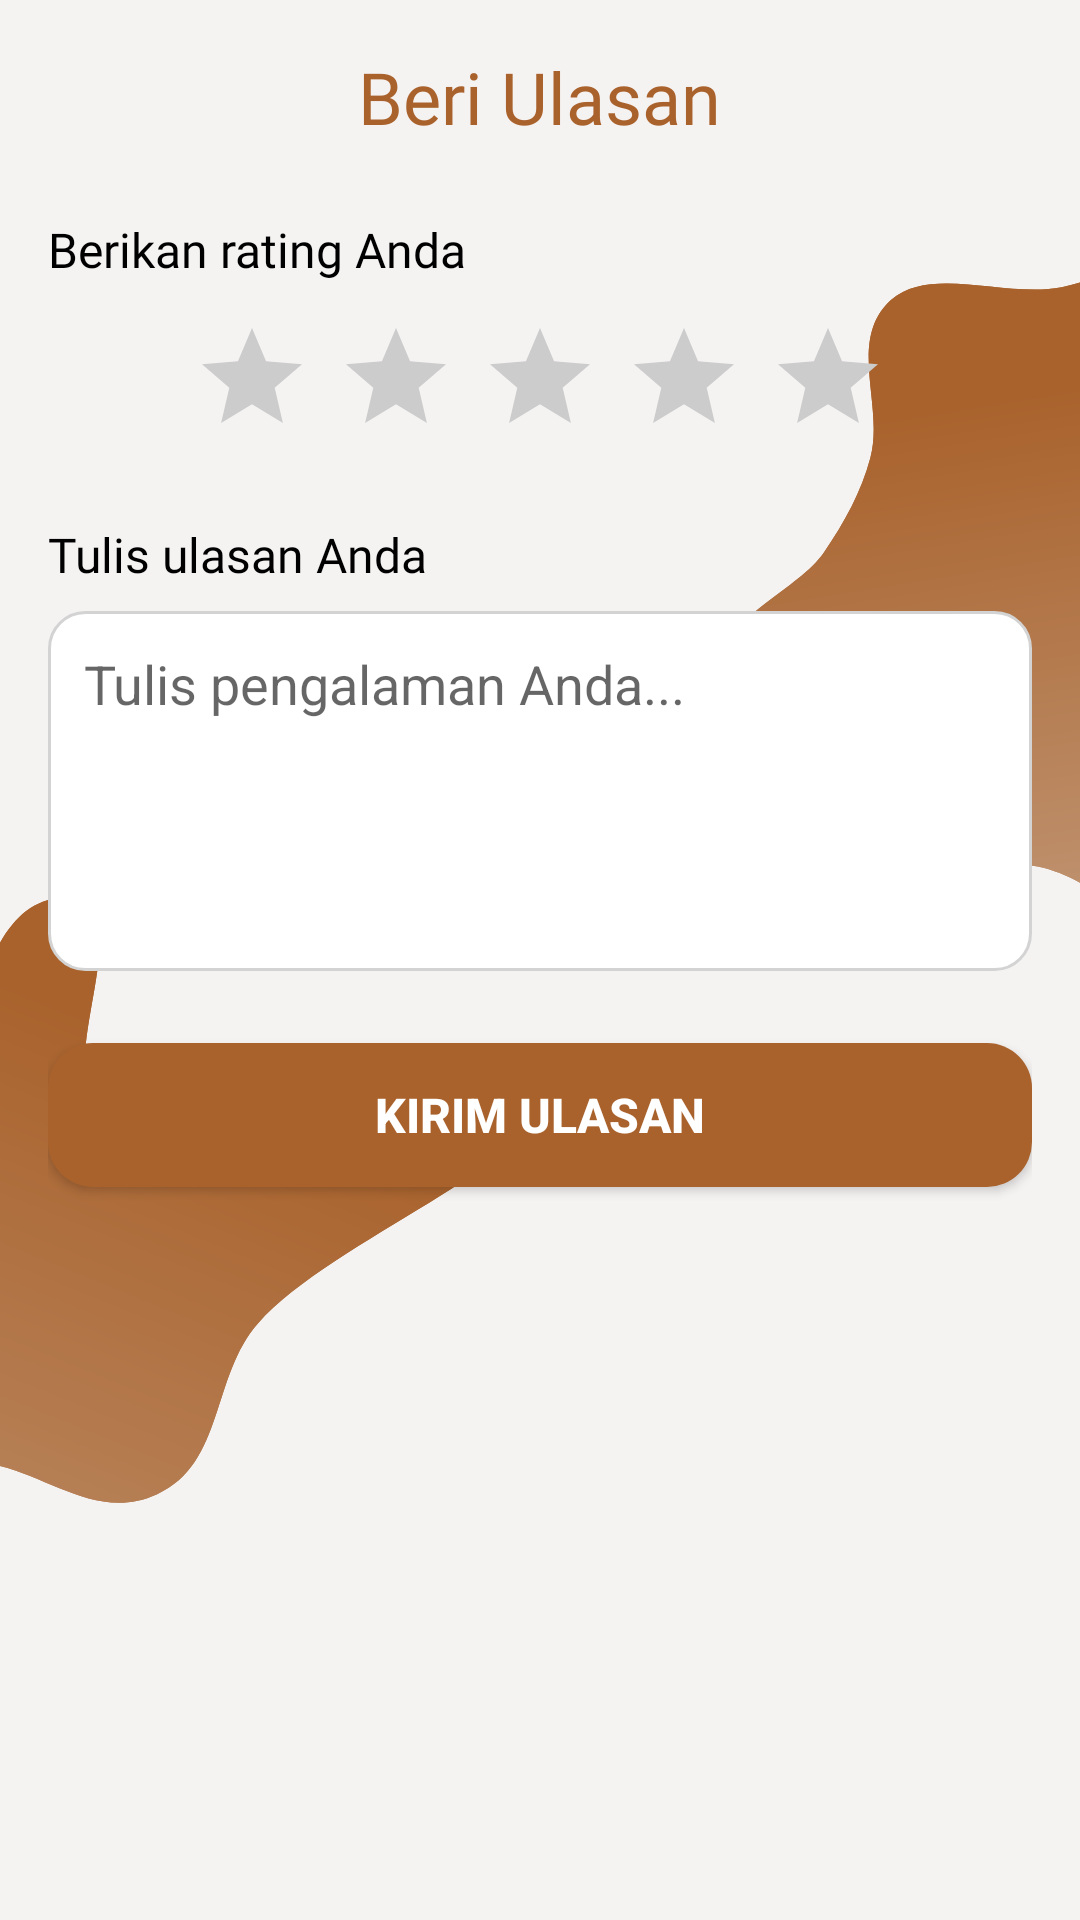

Screen size 1080px x 1920px. Icon name, then its center in pixels as [x,y]:
star: [833,378], [252,375], [396,375], [540,375], [684,375]
